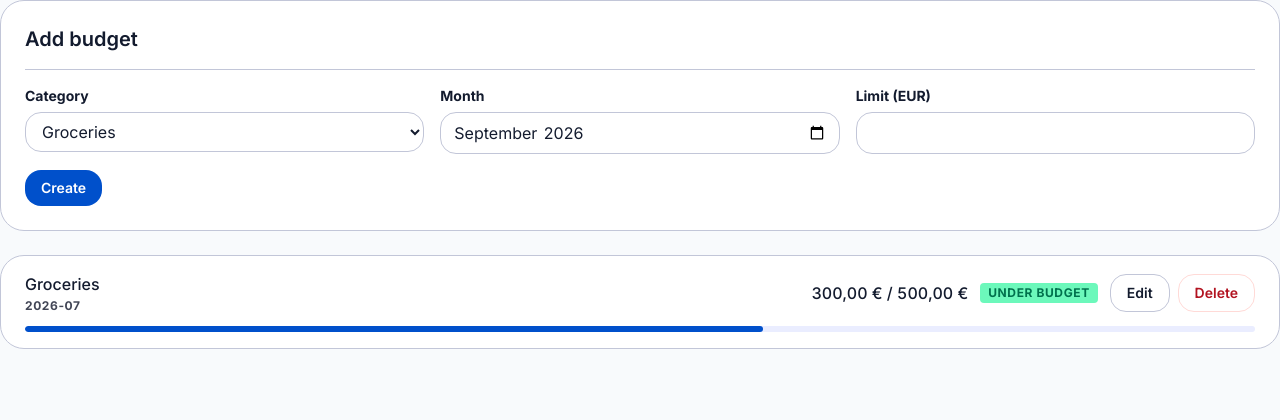
Scenario: BudgetsContainer › shows the API error message on a duplicate budget
The width and height of the screenshot is (1280, 420).
Expected: the list named "Budgets" is shown, [1,256,1279,348]
Step 1. Type "200" into the field labelled "Limit (EUR)" → (1055, 133), box [856,112,1255,154]
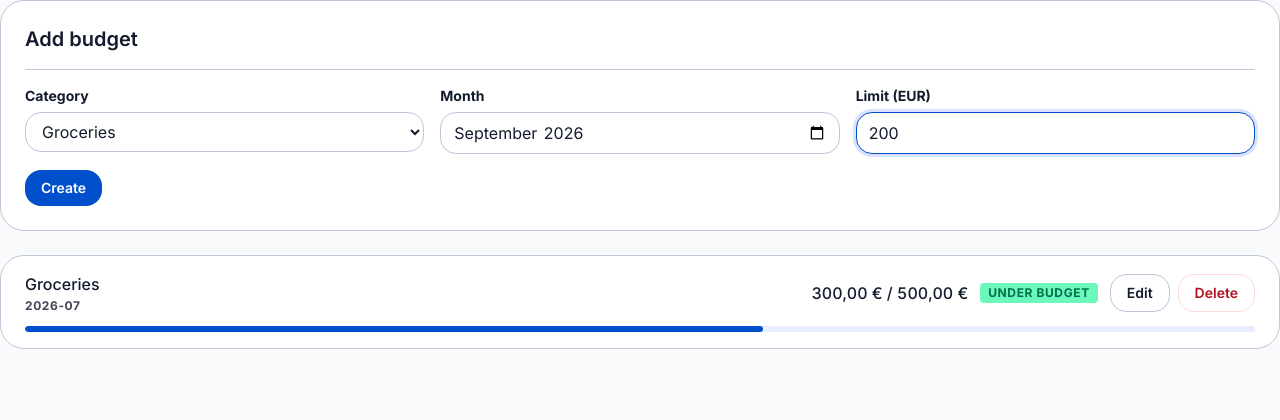
Step 2. Click the button "Create" → (64, 188), box [25,170,102,206]
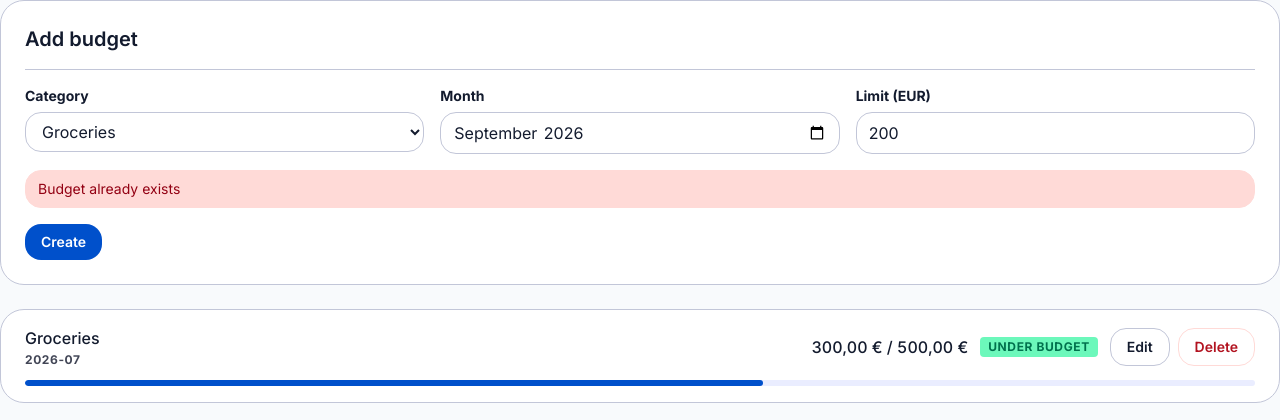
Expected: the message reads "Budget already exists", [38,180,180,197]
